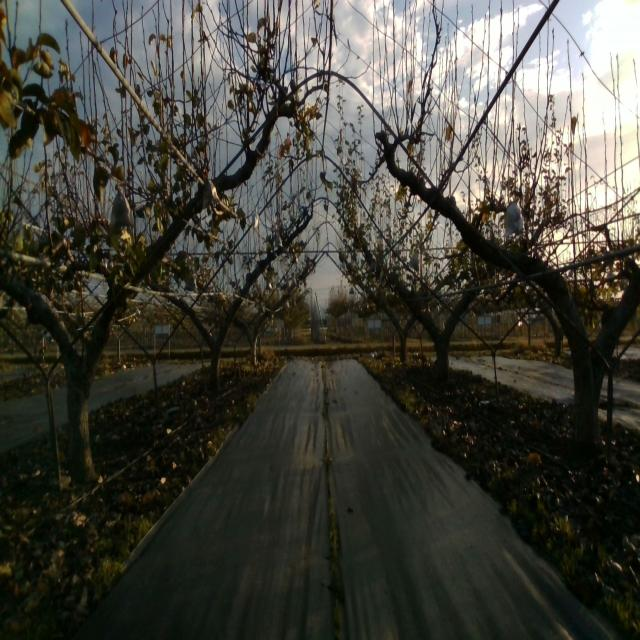pearbags: (109, 183, 135, 232), (502, 198, 524, 238), (201, 176, 220, 208), (408, 251, 419, 273)
